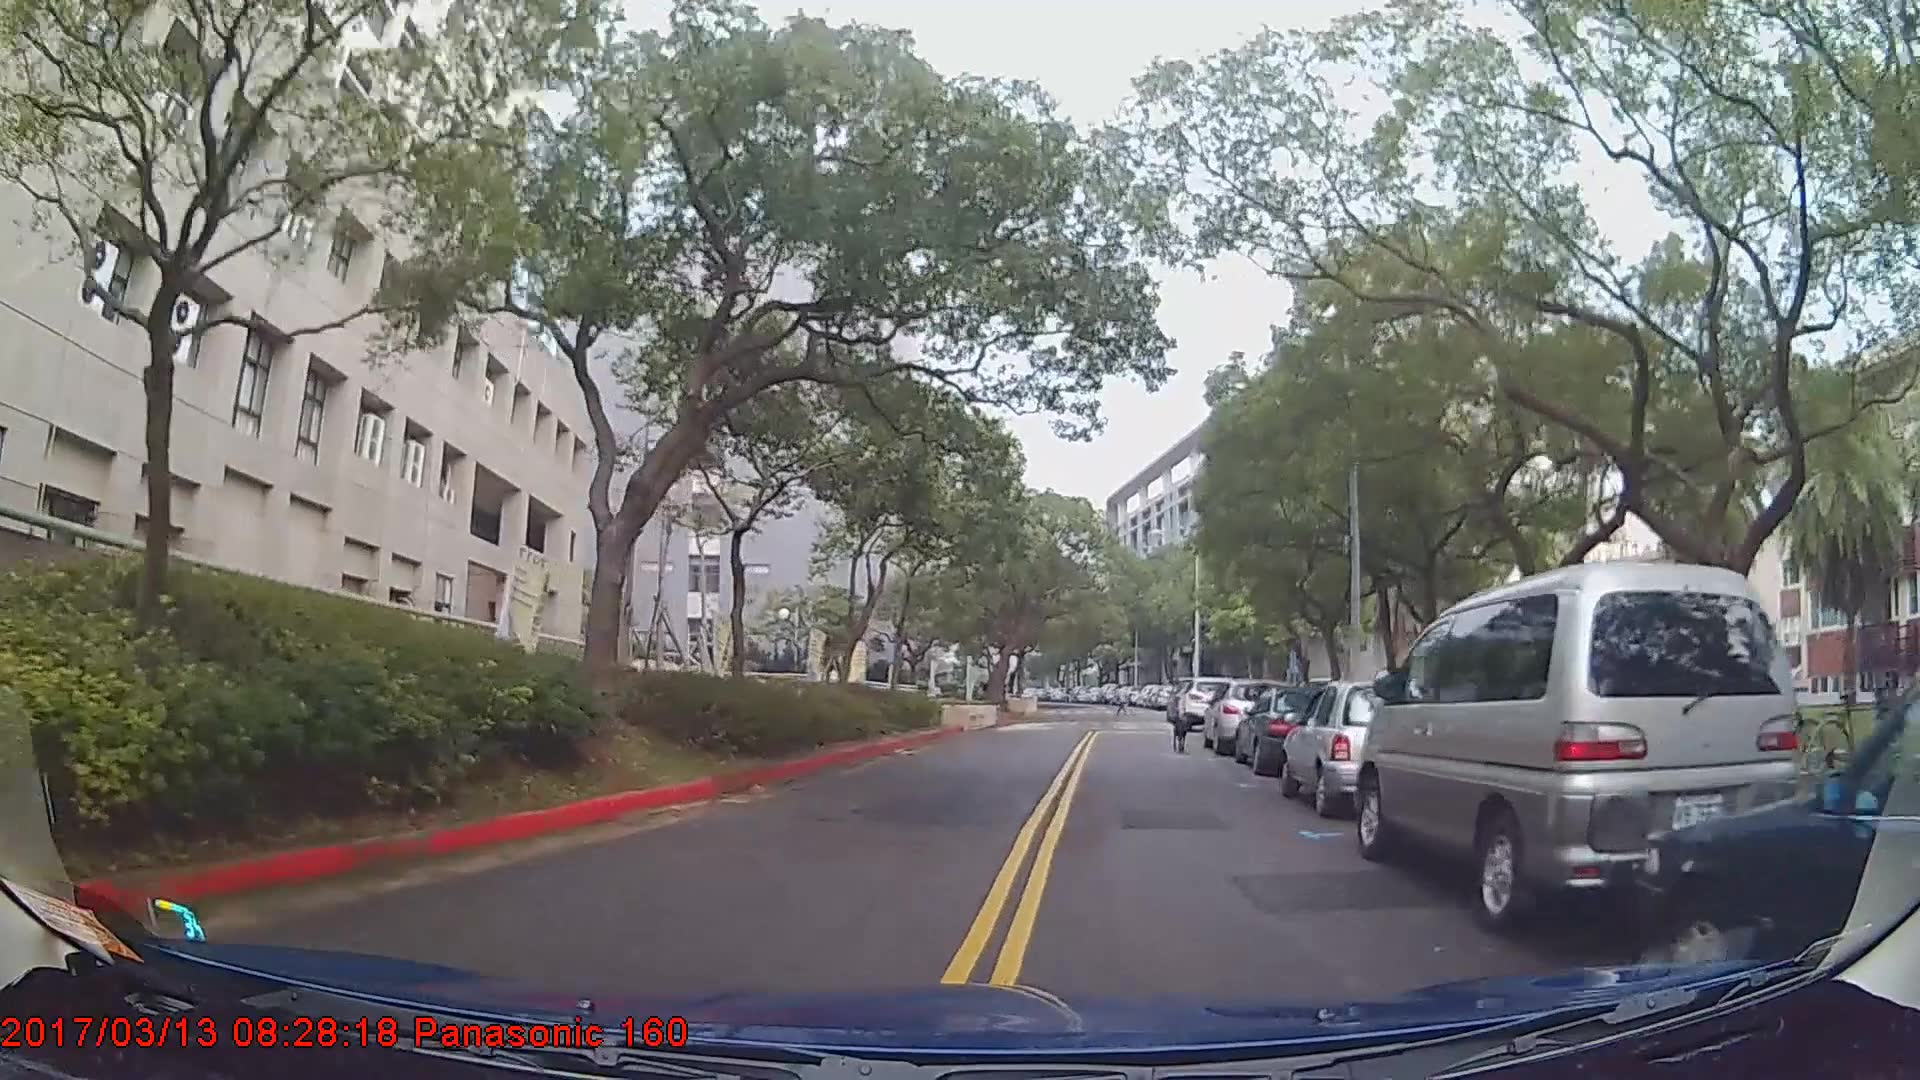vehicle: (1356, 559, 1807, 931), (1636, 676, 1920, 1029), (1279, 682, 1455, 820), (1203, 678, 1292, 754), (1176, 678, 1241, 733)
